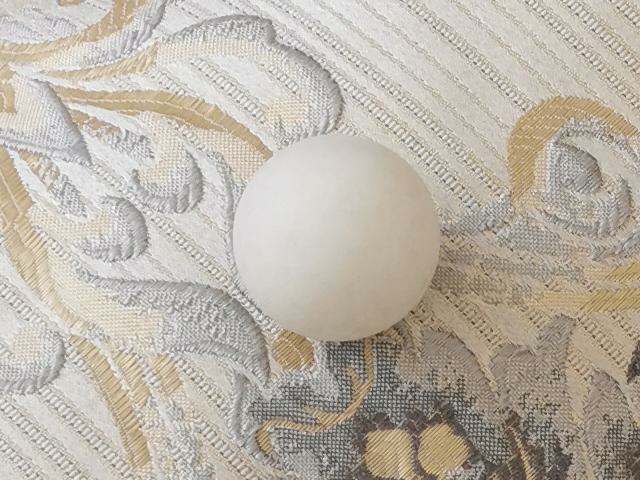ball: (232, 135, 440, 340)
